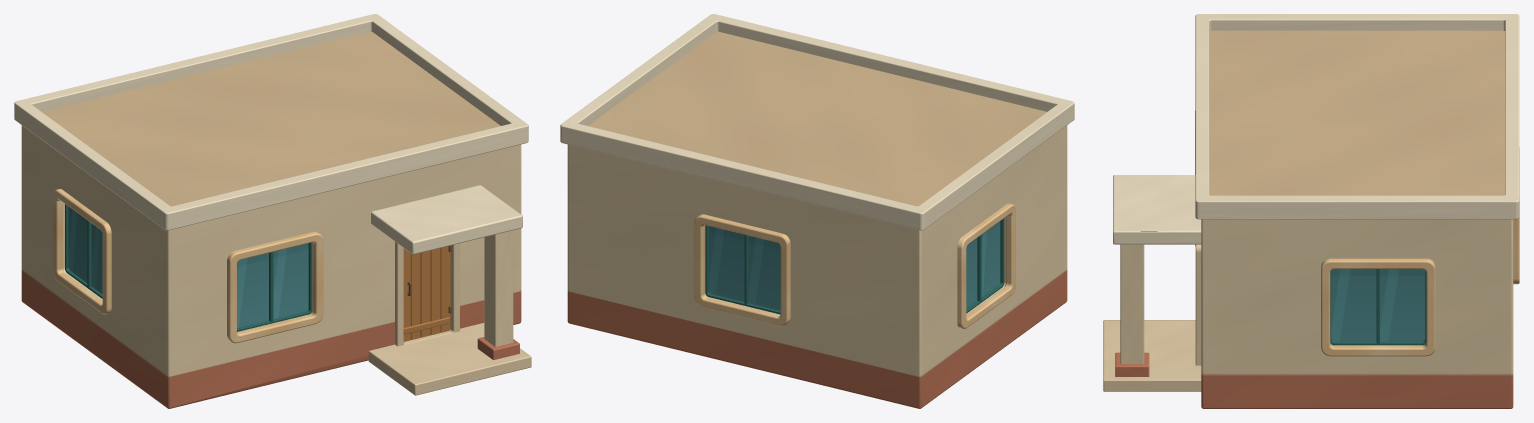
Rendered from SparkBound_House_01.fbx.
3 views of the same model, side by side, from view 1: azimuth 30°, elevation 25°; view 2: azimuth 150°, elevation 25°; view 3: azimuth 270°, elevation 25° (orthographic). The views are drawn at different scales.
Parts seen in each view (by area): view 1: SparkBound_House_01_Geometry; view 2: SparkBound_House_01_Geometry; view 3: SparkBound_House_01_Geometry.
Part boxes in pixels (x1,y1,x2,y2): SparkBound_House_01_Geometry: (14,14,531,408); SparkBound_House_01_Geometry: (560,14,1074,408); SparkBound_House_01_Geometry: (1103,14,1519,408).
Bounding box in the file's own units: 7.41 × 3.9 × 6.94.
